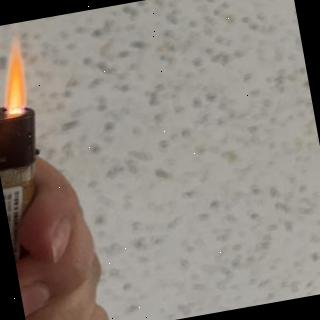fire: (0, 44, 33, 114)
